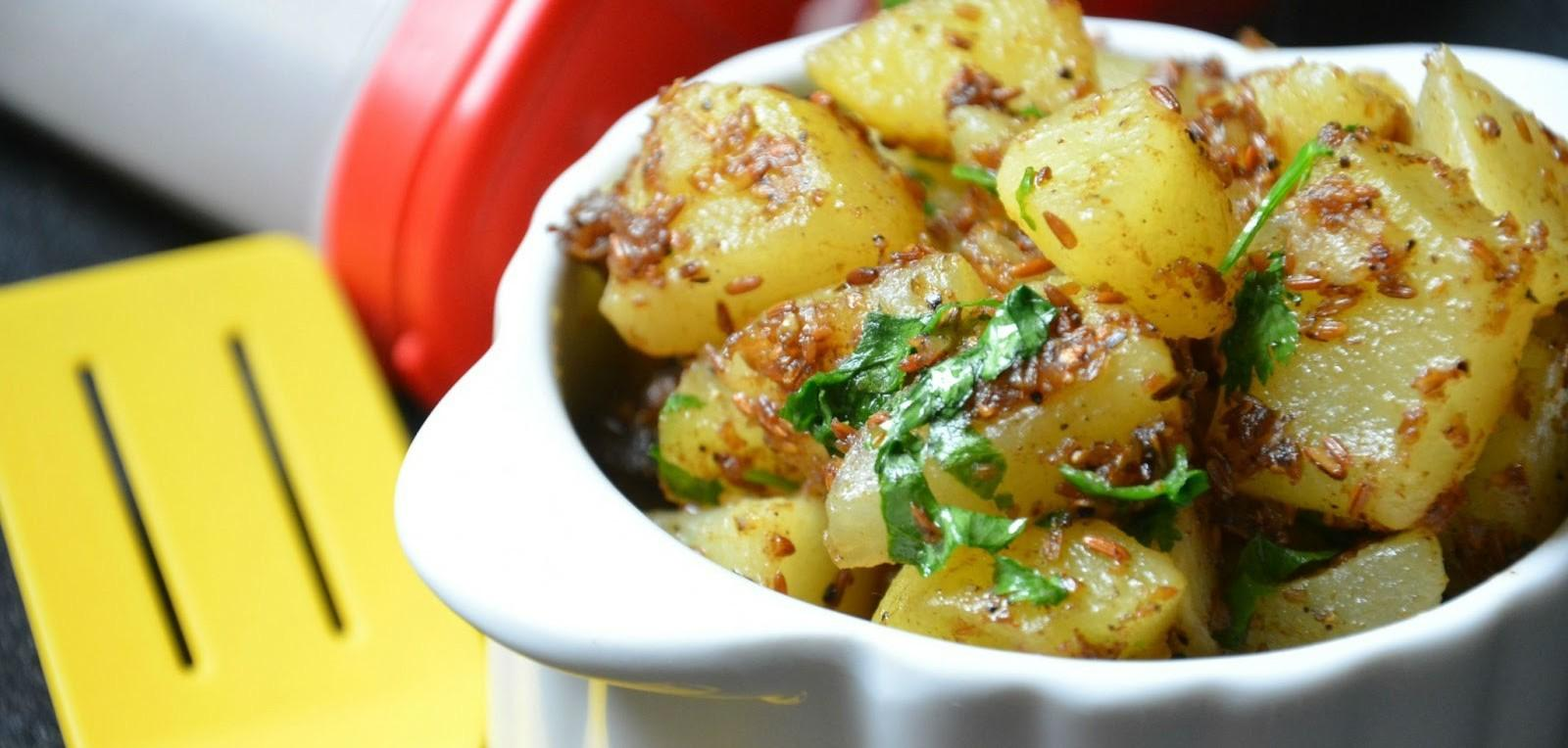AlooMasala: (563, 3, 1568, 661)
